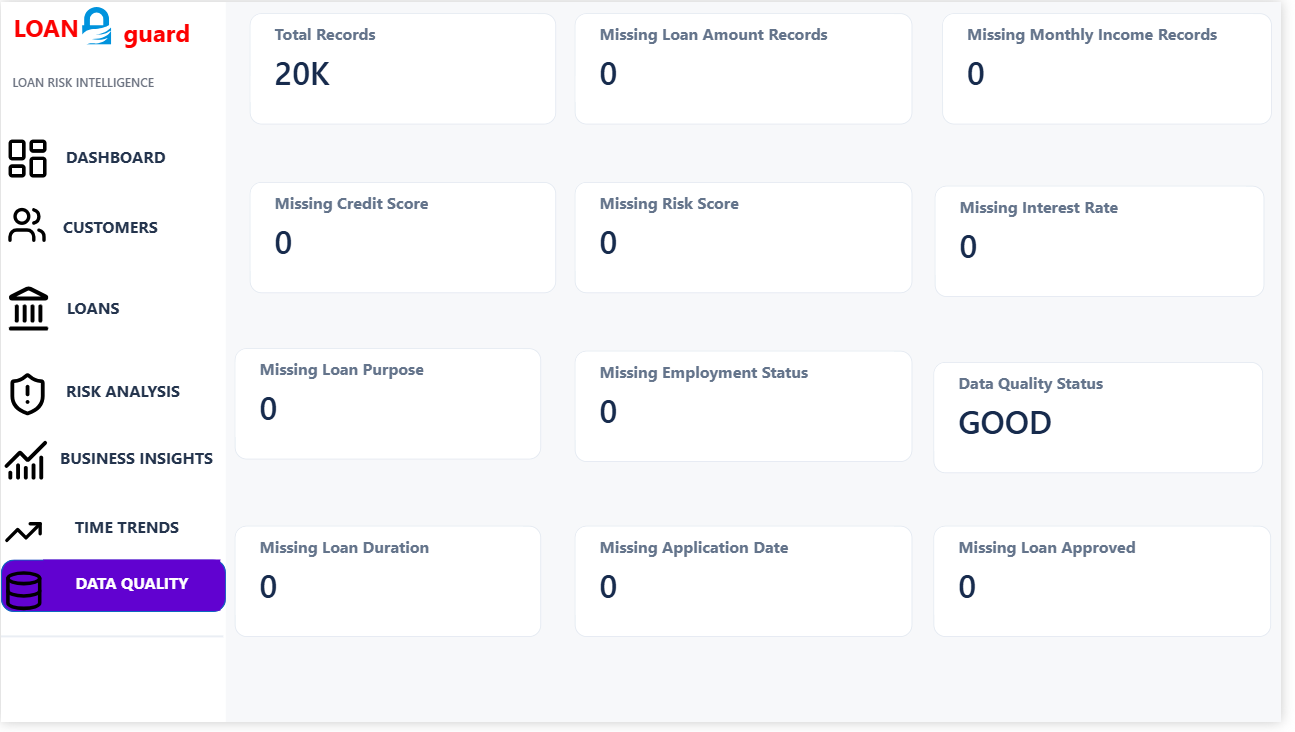

The page's visual inventory and layout, read from the dashboard file:
{"tool":"powerbi","page":{"name":"Data Quality","canvas":[1280,720],"ordinal":6},"visuals":[{"type":"shape","box":[0,0,225,720.4],"z":0},{"type":"textbox","box":[0,65.8,222.3,32.9],"z":0,"group":"g1"},{"type":"shape","box":[0,620,222.3,28.8],"z":0,"group":"g2"},{"type":"textbox","box":[19.3,202.2,181.1,51.5],"z":1000,"group":"g1"},{"type":"shape","box":[0,557.5,225,52.5],"z":1000},{"type":"group","id":"g1","title":"Group 3","box":[0,5,222.5,643.8],"z":2000},{"type":"textbox","box":[4.1,282.7,176.7,50.9],"z":2000,"group":"g1"},{"type":"actionButton","box":[0,133.8,177.5,50],"z":3000},{"type":"textbox","box":[45.6,432.3,176.1,50.9],"z":3000,"group":"g1"},{"type":"actionButton","box":[0,203.8,192.5,50],"z":4000},{"type":"textbox","box":[24.9,364.9,189.2,50.9],"z":4000,"group":"g1"},{"type":"actionButton","box":[0,283.8,192.5,50],"z":5000},{"type":"textbox","box":[37.5,501.2,176.7,50.9],"z":5000,"group":"g1"},{"type":"textbox","box":[25.7,131.4,176.7,50.9],"z":6000,"group":"g1"},{"type":"actionButton","box":[0,367.5,192.5,50],"z":6000},{"type":"image","box":[0,202.2,52.5,41.1],"z":7000,"group":"g1"},{"type":"actionButton","box":[10,435,213.8,50],"z":7000},{"type":"image","box":[3.4,133.4,45.6,46],"z":8000,"group":"g1"},{"type":"actionButton","box":[0,502.5,192.5,50],"z":8000},{"type":"cardVisual","fields":{"Data":["loanguard loan_applications.Total Application"]},"box":[248.5,10.9,306.4,111],"z":9000},{"type":"image","box":[0,282.7,55.2,47.7],"z":9000,"group":"g1"},{"type":"cardVisual","fields":{"Data":["loanguard loan_applications.Missing Loan Amount"]},"box":[574.3,10.9,337.8,111],"z":10000},{"type":"image","box":[4.1,368.2,45.6,47.7],"z":10000,"group":"g1"},{"type":"cardVisual","fields":{"Data":["loanguard loan_applications.Missing Monthly Income"]},"box":[941,10.9,329.4,111],"z":11000},{"type":"image","box":[0,435.6,49.7,46],"z":11000,"group":"g1"},{"type":"cardVisual","fields":{"Data":["loanguard loan_applications.Missing Credit Score"]},"box":[248.5,179.8,306.4,111],"z":12000},{"type":"image","box":[2.5,501.2,40,57.5],"z":12000,"group":"g1"},{"type":"cardVisual","fields":{"Data":["loanguard loan_applications.Missing Risk Score"]},"box":[574.3,179.8,337.8,111],"z":13000},{"type":"image","box":[0,567.5,45.6,42.7],"z":13000,"group":"g1"},{"type":"textbox","box":[6.9,5,85.6,60.8],"z":14000,"group":"g1"},{"type":"cardVisual","fields":{"Data":["loanguard loan_applications.Missing Interest Rate"]},"box":[933.8,183.4,329.4,111],"z":14000},{"type":"image","box":[70.4,5,51.1,37.8],"z":15000,"group":"g1"},{"type":"cardVisual","fields":{"Data":["loanguard loan_applications.Missing Loan Purpose"]},"box":[234,346.2,306.4,111],"z":15000},{"type":"textbox","box":[117.4,9.9,87,54.2],"z":16000,"group":"g1"},{"type":"cardVisual","fields":{"Data":["loanguard loan_applications.Missing Employment Status"]},"box":[574.3,348.7,337.8,111],"z":16000},{"type":"cardVisual","fields":{"Data":["loanguard loan_applications.Data Quality Status"]},"box":[932.6,359.5,329.4,111],"z":17000},{"type":"group","id":"g2","title":"Group 1","box":[0,620,222.5,28.8],"z":17000,"group":"g1"},{"type":"cardVisual","fields":{"Data":["loanguard loan_applications.Missing Loan Duration"]},"box":[234,523.6,306.4,111],"z":18000},{"type":"textbox","box":[42.5,557.5,176.7,50.9],"z":18000,"group":"g1"},{"type":"cardVisual","fields":{"Data":["loanguard loan_applications.Missing Application Date"]},"box":[574.3,523.6,337.8,111],"z":19000},{"type":"cardVisual","fields":{"Data":["loanguard loan_applications.Missing Loan Approved"]},"box":[932.6,523.6,337.8,111],"z":20000}]}

Visuals, with their boxes on the page's 1280x720 design canvas (x1, y1, x2, y2). These are canvas units, not pixel positions in the 1295x732 screenshot, which may show the page scaled, cropped or inside an application window:
shape: [left=0, top=0, right=225, bottom=720]
textbox: [left=0, top=66, right=222, bottom=99]
shape: [left=0, top=620, right=222, bottom=649]
textbox: [left=19, top=202, right=200, bottom=254]
shape: [left=0, top=558, right=225, bottom=610]
"Group 3" group: [left=0, top=5, right=222, bottom=649]
textbox: [left=4, top=283, right=181, bottom=334]
actionButton: [left=0, top=134, right=178, bottom=184]
textbox: [left=46, top=432, right=222, bottom=483]
actionButton: [left=0, top=204, right=192, bottom=254]
textbox: [left=25, top=365, right=214, bottom=416]
actionButton: [left=0, top=284, right=192, bottom=334]
textbox: [left=38, top=501, right=214, bottom=552]
textbox: [left=26, top=131, right=202, bottom=182]
actionButton: [left=0, top=368, right=192, bottom=418]
image: [left=0, top=202, right=52, bottom=243]
actionButton: [left=10, top=435, right=224, bottom=485]
image: [left=3, top=133, right=49, bottom=179]
actionButton: [left=0, top=502, right=192, bottom=552]
cardVisual - loanguard loan_applications.Total Application: [left=248, top=11, right=555, bottom=122]
image: [left=0, top=283, right=55, bottom=330]
cardVisual - loanguard loan_applications.Missing Loan Amount: [left=574, top=11, right=912, bottom=122]
image: [left=4, top=368, right=50, bottom=416]
cardVisual - loanguard loan_applications.Missing Monthly Income: [left=941, top=11, right=1270, bottom=122]
image: [left=0, top=436, right=50, bottom=482]
cardVisual - loanguard loan_applications.Missing Credit Score: [left=248, top=180, right=555, bottom=291]
image: [left=2, top=501, right=42, bottom=559]
cardVisual - loanguard loan_applications.Missing Risk Score: [left=574, top=180, right=912, bottom=291]
image: [left=0, top=568, right=46, bottom=610]
textbox: [left=7, top=5, right=92, bottom=66]
cardVisual - loanguard loan_applications.Missing Interest Rate: [left=934, top=183, right=1263, bottom=294]
image: [left=70, top=5, right=122, bottom=43]
cardVisual - loanguard loan_applications.Missing Loan Purpose: [left=234, top=346, right=540, bottom=457]
textbox: [left=117, top=10, right=204, bottom=64]
cardVisual - loanguard loan_applications.Missing Employment Status: [left=574, top=349, right=912, bottom=460]
cardVisual - loanguard loan_applications.Data Quality Status: [left=933, top=360, right=1262, bottom=470]
"Group 1" group: [left=0, top=620, right=222, bottom=649]
cardVisual - loanguard loan_applications.Missing Loan Duration: [left=234, top=524, right=540, bottom=635]
textbox: [left=42, top=558, right=219, bottom=608]
cardVisual - loanguard loan_applications.Missing Application Date: [left=574, top=524, right=912, bottom=635]
cardVisual - loanguard loan_applications.Missing Loan Approved: [left=933, top=524, right=1270, bottom=635]
